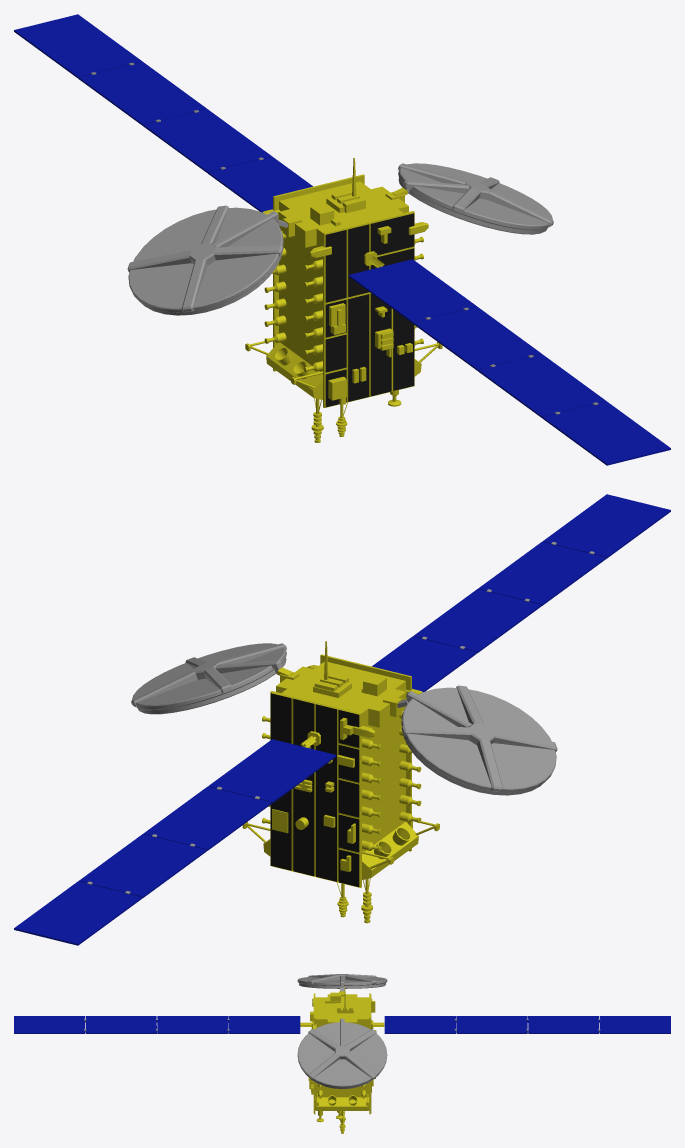
Rendered from ses.obj.
3 renders of one model, top to bottom at view 1: azimuth 30°, elevation 25°; view 2: azimuth 150°, elevation 25°; view 3: azimuth 270°, elevation 25°, orthographic. The views are drawn at different scales.
Parts seen in each view (by area): view 1: SolarPanels, BaseMetal, CommDish, BaseMetal.001, CommDish2; view 2: SolarPanels, BaseMetal, CommDish, BaseMetal.001, CommDish2; view 3: SolarPanels, CommDish2, BaseMetal, CommDish.
Part boxes in pixels (x1=…): SolarPanels: x1=14, y1=14, x2=670, y2=465; BaseMetal: x1=245, y1=157, x2=442, y2=442; CommDish: x1=127, y1=205, x2=287, y2=315; BaseMetal.001: x1=325, y1=213, x2=414, y2=407; CommDish2: x1=398, y1=163, x2=553, y2=234; SolarPanels: x1=14, y1=494, x2=670, y2=945; BaseMetal: x1=242, y1=641, x2=439, y2=923; CommDish: x1=397, y1=685, x2=557, y2=795; BaseMetal.001: x1=270, y1=693, x2=359, y2=887; CommDish2: x1=131, y1=643, x2=286, y2=714; SolarPanels: x1=14, y1=1016, x2=670, y2=1033; CommDish2: x1=297, y1=1018, x2=387, y2=1088; BaseMetal: x1=300, y1=986, x2=384, y2=1133; CommDish: x1=297, y1=974, x2=387, y2=991.
Bounding box in the file's own units: 0.4822 × 0.313 × 1.23.
